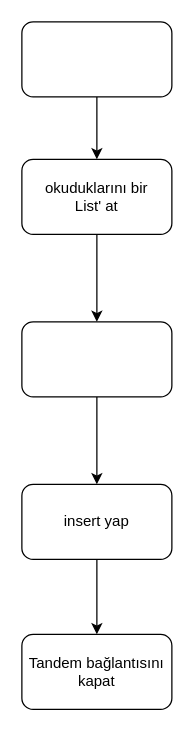
Image size: 194x731. Some labels were removed from this diagram. Each missing label, with the centre of its shape:
"excel dosyasını okul" belongs at [96,59].
"Tandem' e bağlan" belongs at [96,359].
